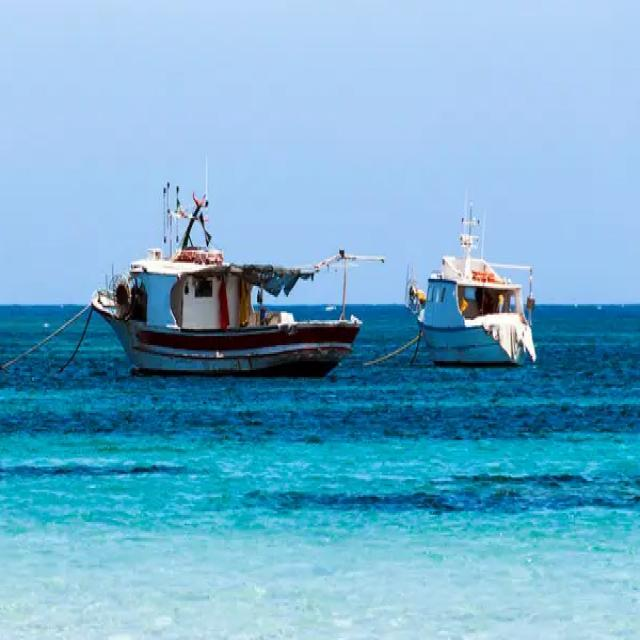fishing boat: (89, 182, 369, 372), (402, 197, 541, 364)
